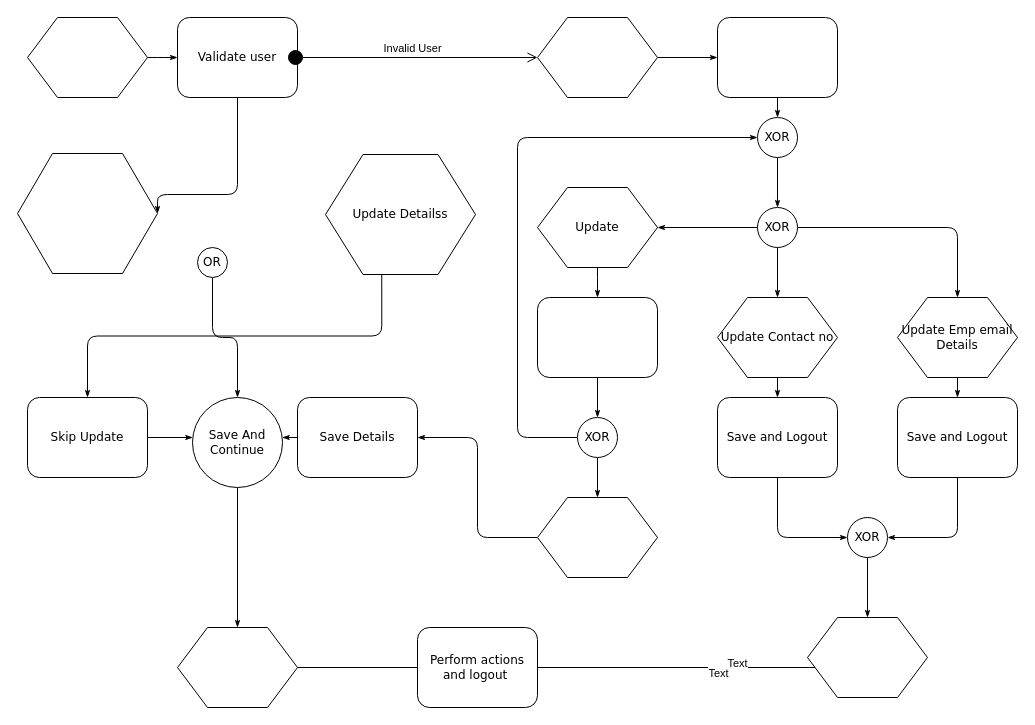
The diagram is 1035 pixels wide and 725 high, and some of its shapes have lost their labels. The box of each missing label's shape, as (x1, y1, x2, y2) in pixels:
Acceptance Criteria, cookies: (716, 16, 838, 98)
Dashboard Page: (176, 626, 298, 708)
Invite additional reviewer: (536, 296, 658, 378)
Logout: (806, 616, 928, 698)
Register User: (536, 16, 658, 98)
Reset password: (26, 16, 148, 98)
Review Existing Details Emp contact ,email, hint Q&A: (16, 152, 158, 274)
Review X was received: (536, 496, 658, 578)
